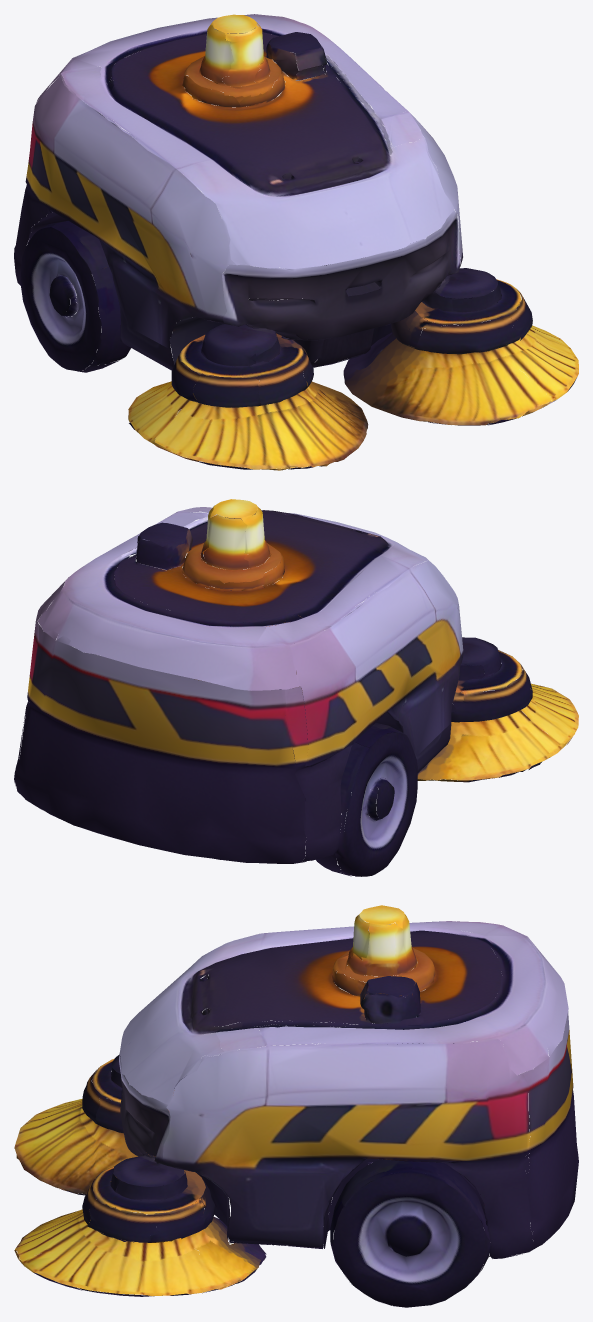
The model's file is h3-street-sweeper.glb.
The picture shows the model from 3 angles, top to bottom: view 1: azimuth 30°, elevation 25°; view 2: azimuth 150°, elevation 25°; view 3: azimuth 270°, elevation 25°; orthographic projection.
Visible parts, largest first — view 1: tmp6ir3mf8q.ply; view 2: tmp6ir3mf8q.ply; view 3: tmp6ir3mf8q.ply.
Part boxes in pixels (x1,y1,x2,y2): tmp6ir3mf8q.ply: (14, 14, 578, 470); tmp6ir3mf8q.ply: (14, 499, 578, 876); tmp6ir3mf8q.ply: (14, 905, 578, 1307).
Size of the model in its own units: 1.7 by 1.24 by 2.
1 material, 1 textured.
